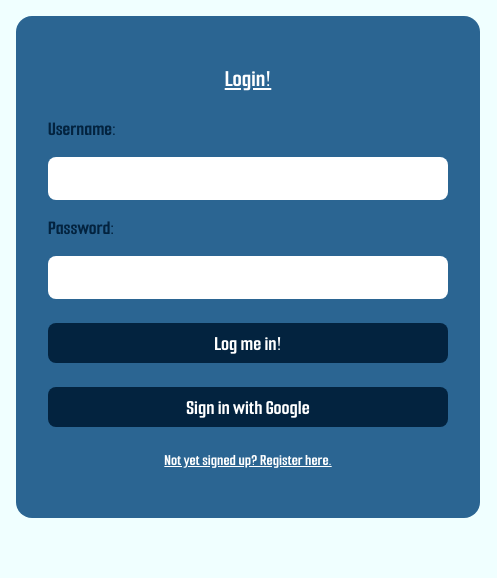
Test: handleSubmit › !response.ok renders error message
Type "usernameMe" into the field labelled "Username:". click: point(248, 178)
box: x1=48 y1=157 x2=448 y2=200
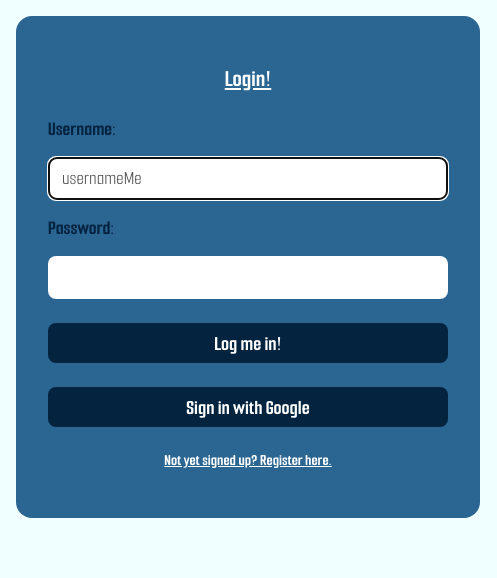
Type "Password123!" into the password field labelled "Password:". click: point(248, 278)
box: x1=48 y1=256 x2=448 y2=299
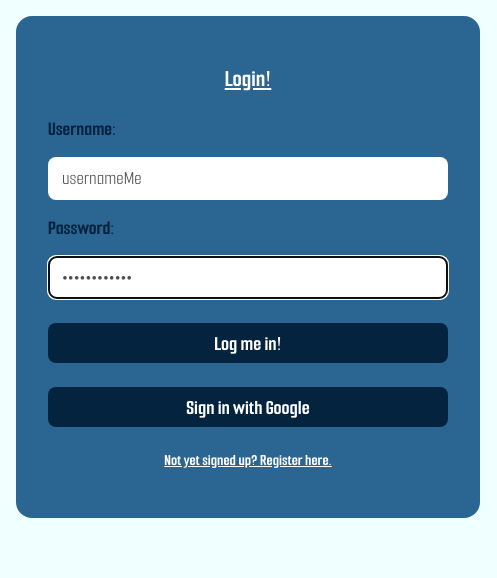
Click the button "Log me in!". click: point(248, 343)
box: x1=48 y1=323 x2=448 y2=363
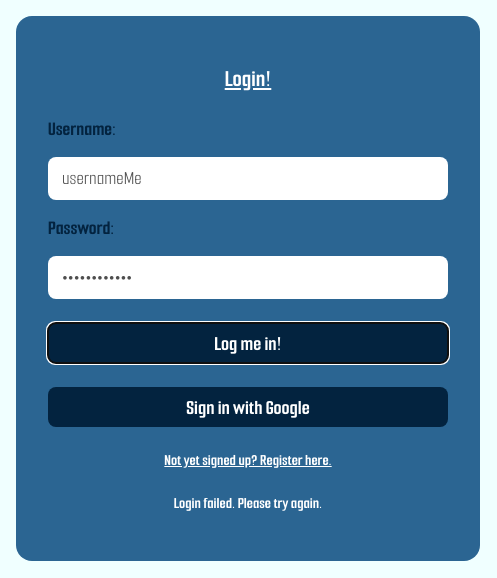
Check: the text "Login failed. Please try again." is shown, box x1=174 y1=494 x2=322 y2=513
